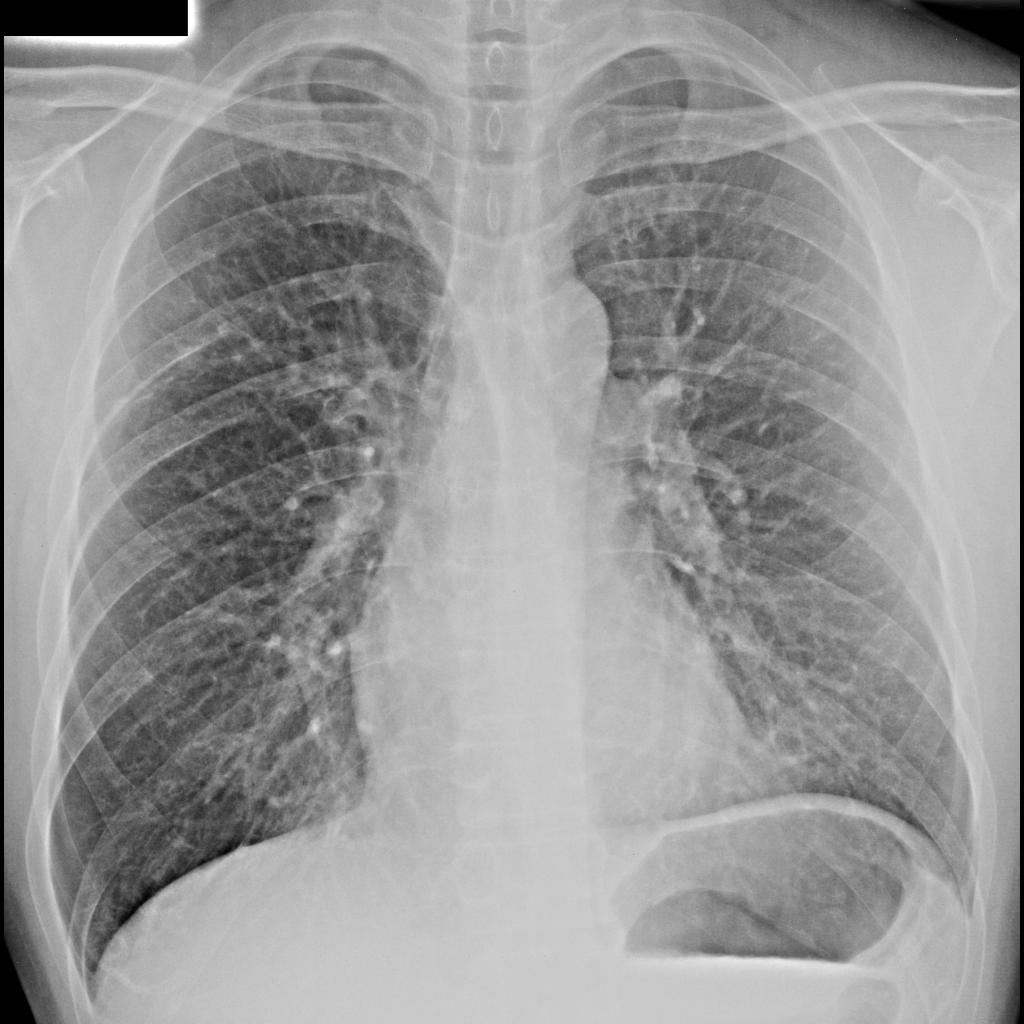Nodule: (179, 345, 206, 372)
